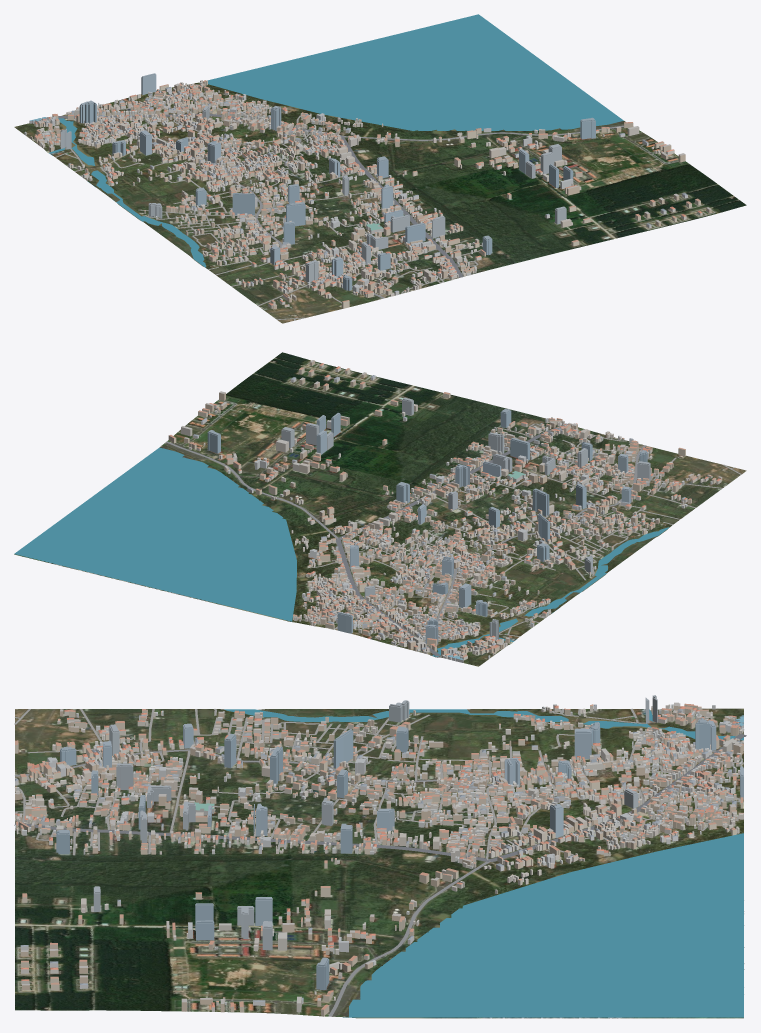
The picture shows the model from 3 angles, top to bottom: view 1: azimuth 30°, elevation 25°; view 2: azimuth 150°, elevation 25°; view 3: azimuth 270°, elevation 25°; orthographic projection. The views are drawn at different scales.
Visible parts, largest first — view 1: TERRAIN, WATER, BLDG_SHOPHOUSE, BLDG_TUBE_HOUSE, BLDG_VILLA_APARTMENT, BLDG_MODERN_TOWER, ROAD_METRO; view 2: TERRAIN, WATER, BLDG_SHOPHOUSE, BLDG_TUBE_HOUSE, BLDG_VILLA_APARTMENT, BLDG_MODERN_TOWER, ROAD_METRO; view 3: TERRAIN, WATER, BLDG_SHOPHOUSE, BLDG_TUBE_HOUSE, BLDG_VILLA_APARTMENT, BLDG_MODERN_TOWER, ROAD_METRO.
Part boxes in pixels (x1,y1,x2,y2): TERRAIN: (14, 82, 746, 323); WATER: (49, 14, 623, 267); BLDG_SHOPHOUSE: (34, 80, 711, 309); BLDG_TUBE_HOUSE: (24, 80, 662, 307); BLDG_VILLA_APARTMENT: (34, 83, 702, 308); BLDG_MODERN_TOWER: (60, 73, 595, 290); ROAD_METRO: (48, 84, 623, 320); TERRAIN: (14, 352, 746, 666); WATER: (14, 447, 669, 656); BLDG_SHOPHOUSE: (168, 360, 722, 656); BLDG_TUBE_HOUSE: (188, 407, 712, 658); BLDG_VILLA_APARTMENT: (181, 363, 721, 659); BLDG_MODERN_TOWER: (207, 397, 650, 644); ROAD_METRO: (49, 423, 741, 658); TERRAIN: (15, 708, 743, 1018); WATER: (224, 709, 743, 1017); BLDG_SHOPHOUSE: (15, 702, 743, 1016); BLDG_TUBE_HOUSE: (15, 704, 743, 1005); BLDG_VILLA_APARTMENT: (15, 704, 743, 1012); BLDG_MODERN_TOWER: (56, 695, 743, 990); ROAD_METRO: (14, 708, 746, 1018).
Bounding box in the file's own units: 2006 × 102 × 2011.
Materials: 8 (1 with a texture image).
